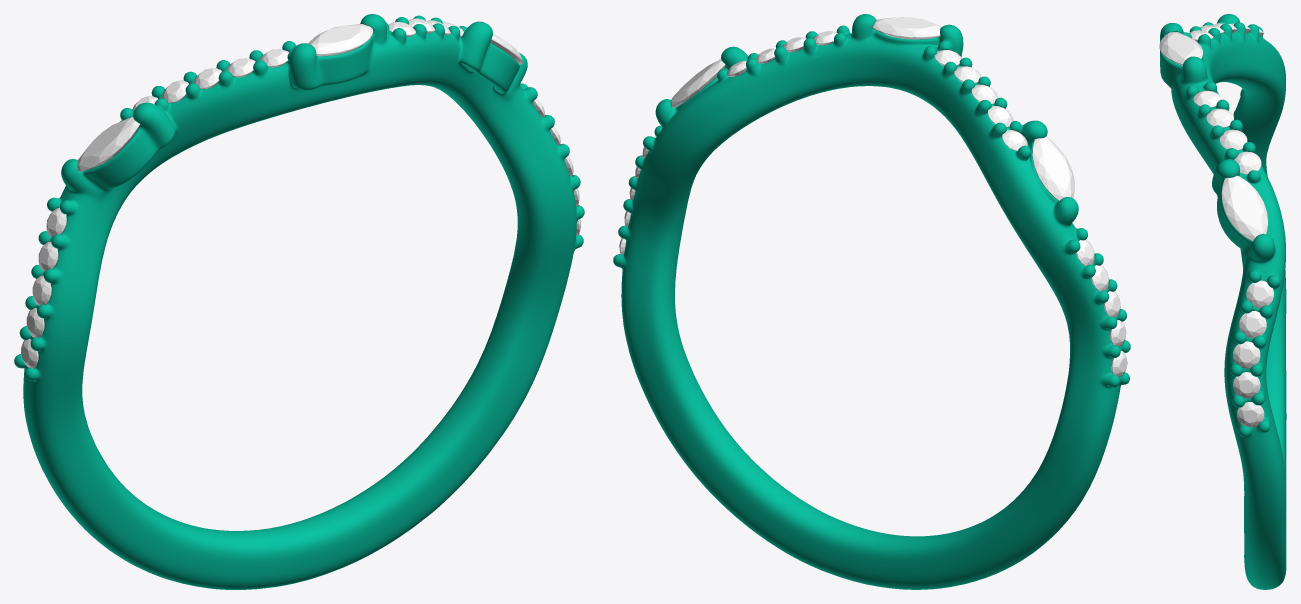
The model's file is BE2D204_RENDER.glb.
3 renders of one model, left to right at view 1: azimuth 30°, elevation 25°; view 2: azimuth 150°, elevation 25°; view 3: azimuth 270°, elevation 25°, orthographic. The views are drawn at different scales.
Parts seen in each view (by area): view 1: Metal03, Diamond_Marquise_Gem_BD.001, Diamond_Marquise_Gem_BD; view 2: Metal03, Diamond_Marquise_Gem_BD.001, Diamond_Marquise_Gem_BD, Diamond_Marquise_Gem_BD.002; view 3: Metal03, Diamond_Marquise_Gem_BD.002, Diamond_Marquise_Gem_BD, Diamond_Round_Gem_BD.011, Diamond_Round_Gem_BD.012, Diamond_Round_Gem_BD.010, Diamond_Round_Gem_BD.009, Diamond_Round_Gem_BD.008, Diamond_Round_Gem_BD.007, Diamond_Round_Gem_BD.006, Diamond_Round_Gem_BD.005, Diamond_Round_Gem_BD.004.
Part boxes in pixels (x1,y1,x2,y2): Metal03: (14,14,584,589); Diamond_Marquise_Gem_BD.001: (77,117,139,171); Diamond_Marquise_Gem_BD: (308,24,372,56); Metal03: (613,14,1130,589); Diamond_Marquise_Gem_BD.001: (1032,137,1074,201); Diamond_Marquise_Gem_BD: (872,17,941,39); Diamond_Marquise_Gem_BD.002: (670,59,725,107); Metal03: (1160,14,1286,589); Diamond_Marquise_Gem_BD.002: (1221,175,1267,241); Diamond_Marquise_Gem_BD: (1159,32,1202,65); Diamond_Round_Gem_BD.011: (1239,311,1266,338); Diamond_Round_Gem_BD.012: (1233,341,1260,368); Diamond_Round_Gem_BD.010: (1246,280,1273,307); Diamond_Round_Gem_BD.009: (1233,372,1260,398); Diamond_Round_Gem_BD.008: (1237,402,1264,427); Diamond_Round_Gem_BD.007: (1234,151,1261,174); Diamond_Round_Gem_BD.006: (1220,129,1247,150); Diamond_Round_Gem_BD.005: (1206,108,1233,127); Diamond_Round_Gem_BD.004: (1193,90,1221,107).
Size of the model in its own units: 20.88 by 20.93 by 4.6.
